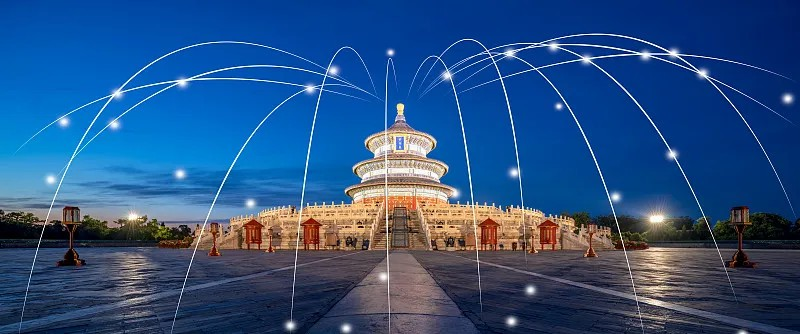Heaven: (344, 103, 456, 211)
